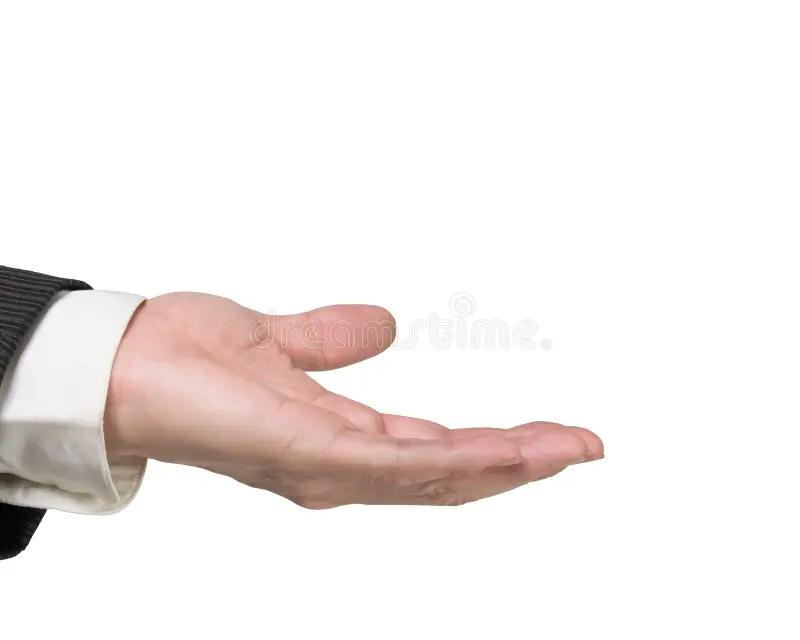paper: (102, 262, 629, 523)
